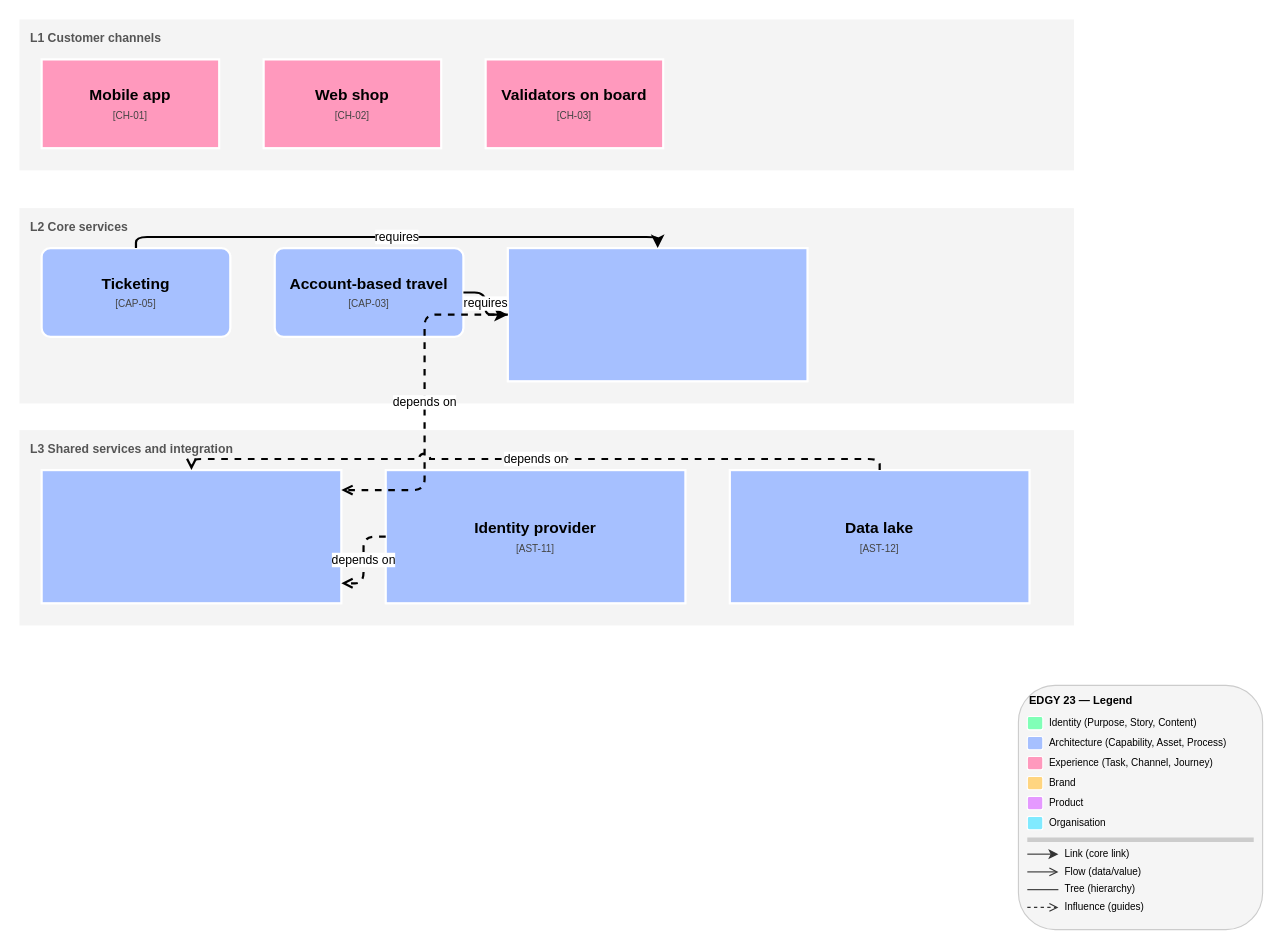
This 1282x949 diagram has some shape labels left out. The shapes that lost their labels are listed below. From the top down, each one's centre as x and y in pixels, then its label:
At (657,314): "Account-based ticketing platform [AST-02]".
At (191,536): "Integration bus [AST-10]".
